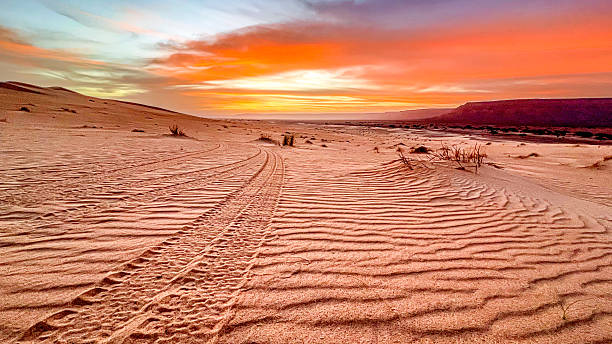vehicle_track: (19, 150, 283, 342), (0, 149, 264, 246), (0, 144, 221, 205)
